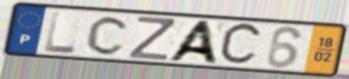6: (264, 25, 306, 70)
A: (164, 19, 221, 66)
C: (216, 21, 265, 68), (84, 14, 132, 57)
L: (43, 10, 79, 55)
Z: (127, 15, 177, 62)
